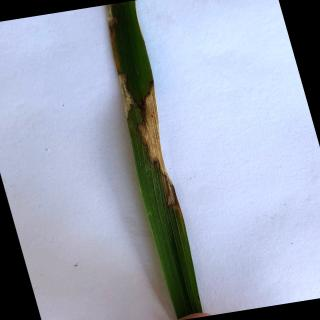Hawar-Daun: (137, 81, 181, 210), (114, 58, 135, 119)
